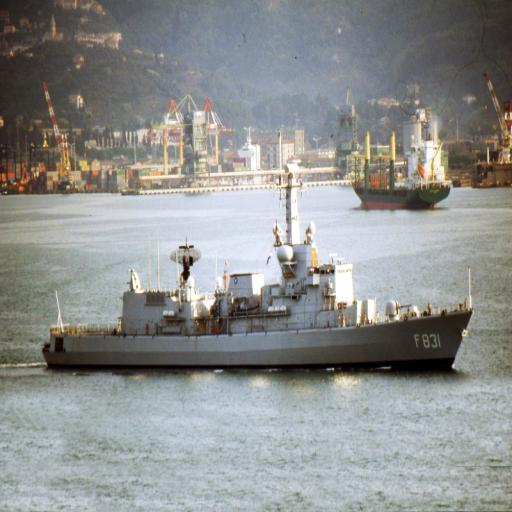Fragata: (40, 167, 479, 377)
